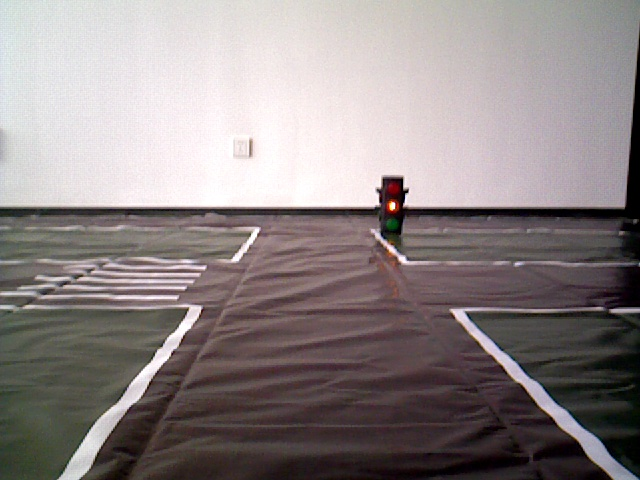yellow: (376, 175, 410, 231)
